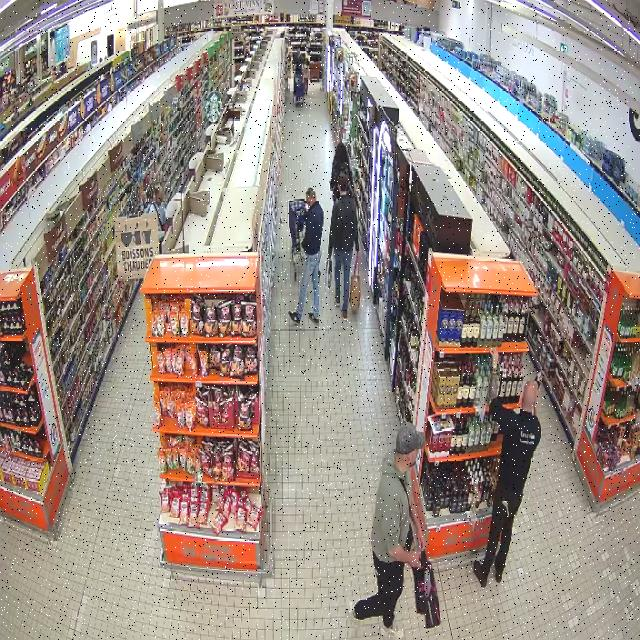article: (325, 257, 332, 288), (534, 371, 542, 387)
hands: (490, 348, 499, 371), (409, 551, 420, 568), (418, 532, 426, 551), (535, 372, 542, 386)
person: (349, 423, 424, 639), (473, 374, 540, 587), (288, 188, 323, 323), (328, 172, 358, 319)
